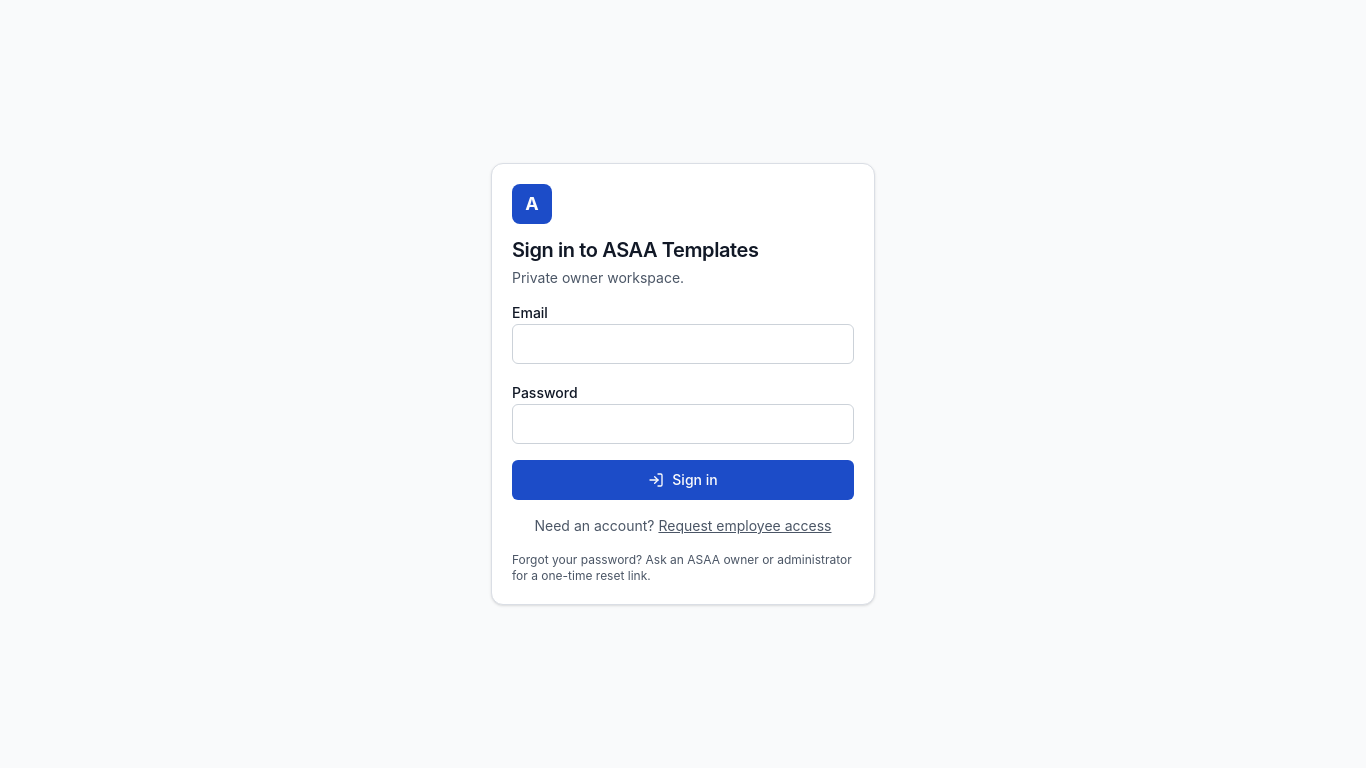
Test: authentication flow › signs in and lands on the requested page
Type "owner@asaa.test" into the field labelled "Email" at [683, 344], box [512,324,854,364]
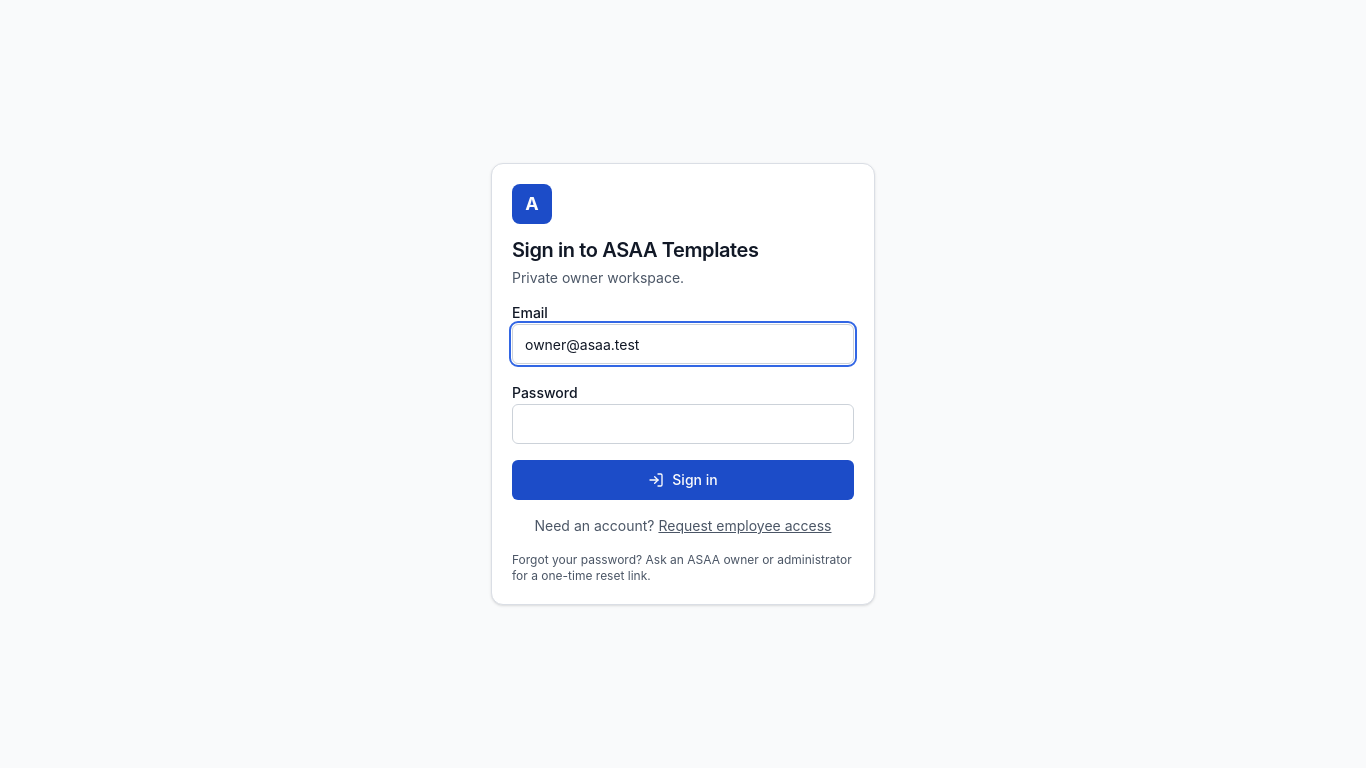
Type "correct horse battery" into the password field labelled "Password" at [683, 424], box [512,404,854,444]
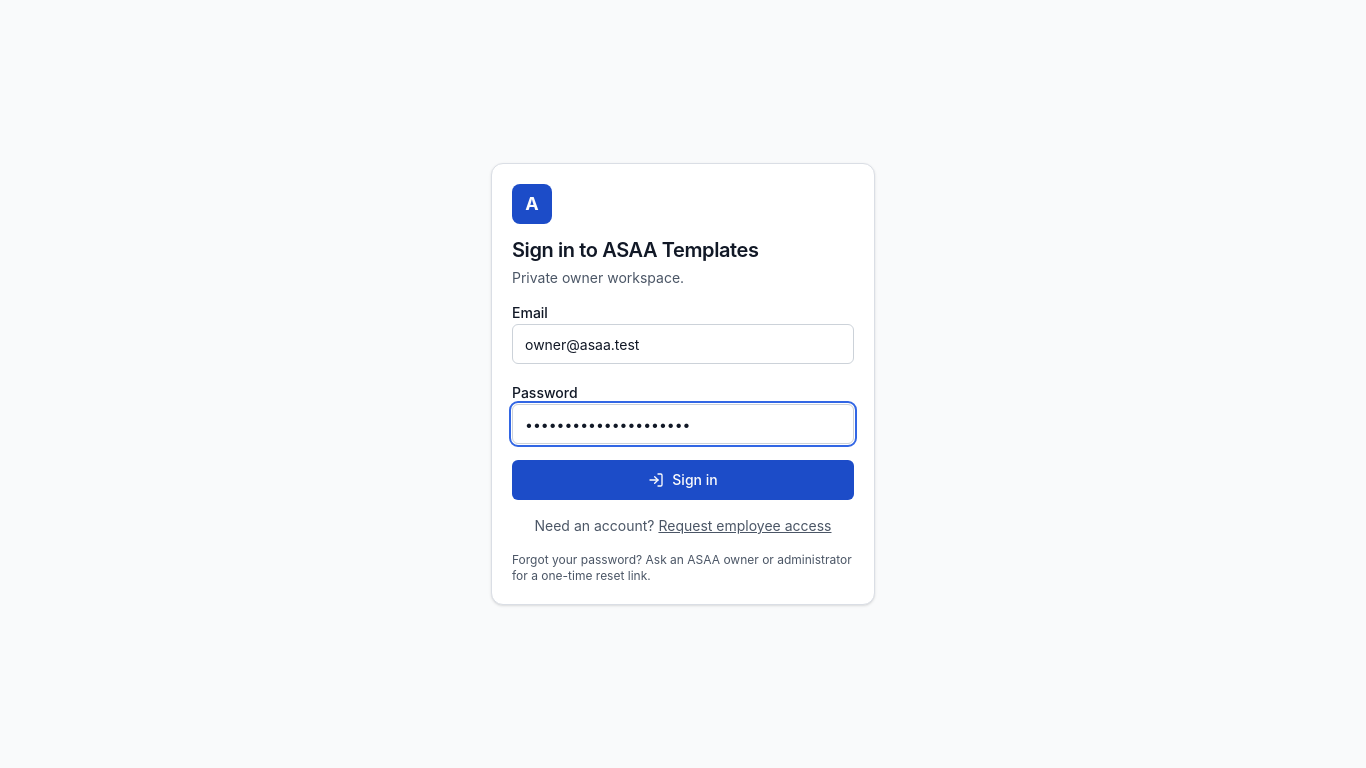
Click the button "Sign in" at [683, 480], box [512,460,854,500]
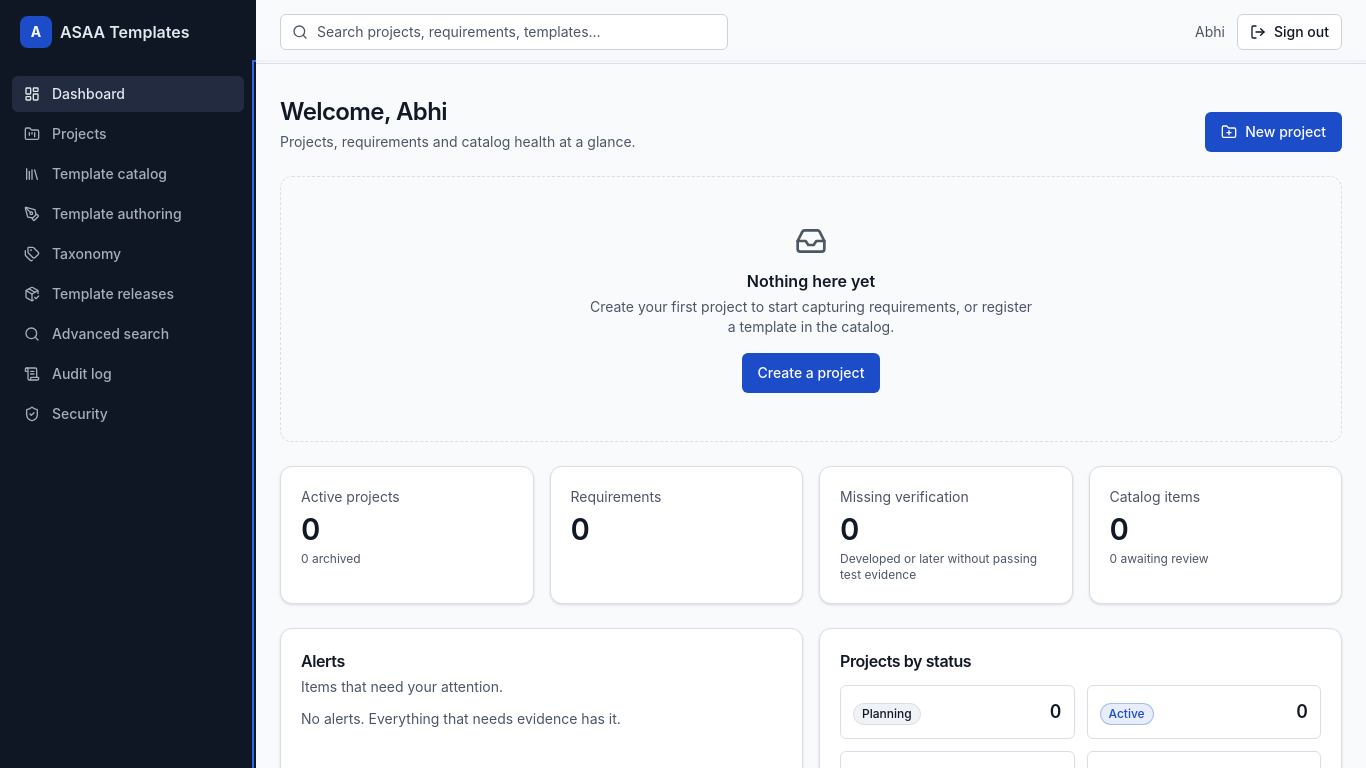
expect the heading "Welcome, Abhi" is shown: met, box [280,97,447,126]
expect the heading "Nothing here yet" is shown: met, box [747,269,875,293]
